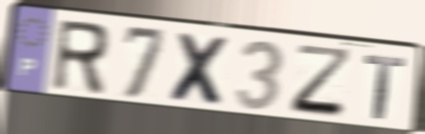3: (234, 39, 289, 113)
7: (121, 22, 167, 103)
R: (48, 17, 111, 99)
T: (362, 53, 407, 123)
X: (167, 30, 234, 110)
Z: (288, 42, 356, 122)
